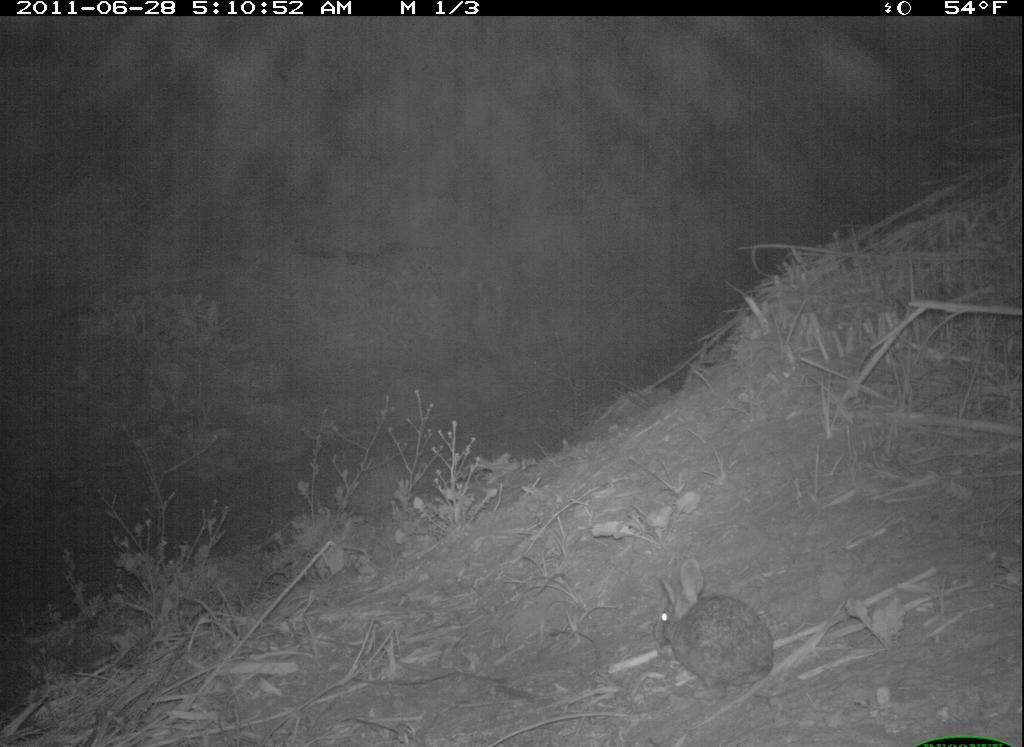rabbit: (642, 552, 785, 708)
